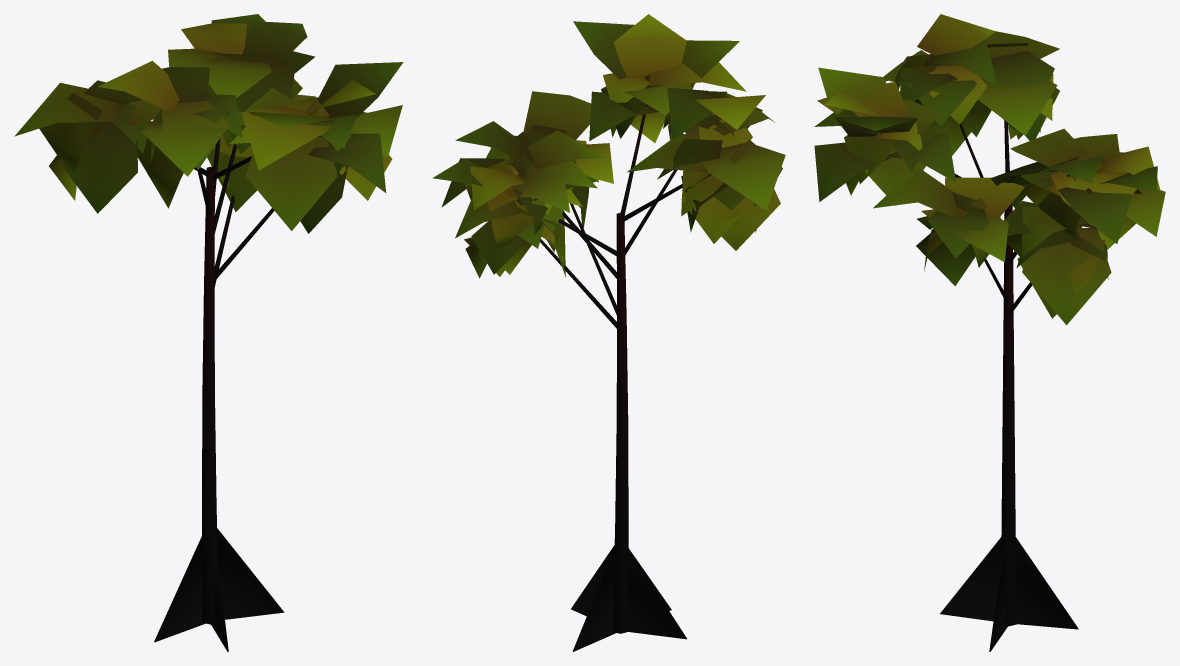
The model's file is broadleaf_c.glb.
3 views of the same model, side by side, from view 1: azimuth 30°, elevation 25°; view 2: azimuth 150°, elevation 25°; view 3: azimuth 270°, elevation 25° (orthographic). The views are drawn at different scales.
Parts seen in each view (by area): view 1: broadleaf_c; view 2: broadleaf_c; view 3: broadleaf_c.
Boxes of the visible parts, <box> form: broadleaf_c: <box>14,14,403,651</box>; broadleaf_c: <box>432,14,785,651</box>; broadleaf_c: <box>814,14,1165,651</box>.
Size of the model in its own units: 7.98 by 13.38 by 7.7.
Materials: 1 (1 with a texture image).
